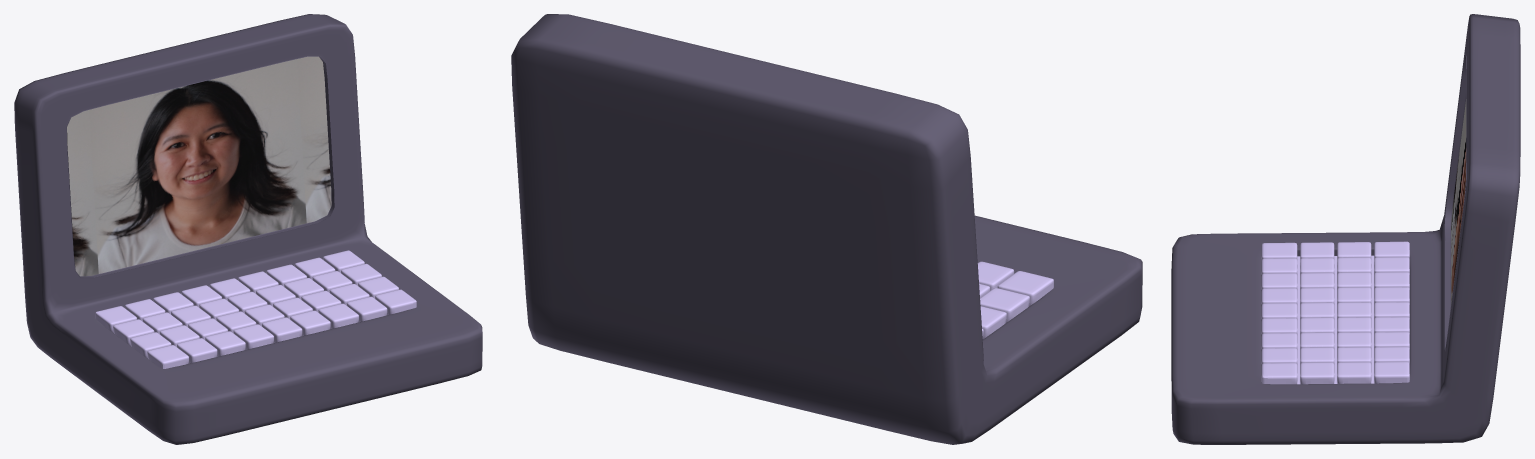
The model's file is laptop_5.glb.
The picture shows the model from 3 angles, left to right: view 1: azimuth 30°, elevation 25°; view 2: azimuth 150°, elevation 25°; view 3: azimuth 270°, elevation 25°; orthographic projection. The views are drawn at different scales.
Parts seen in each view (by area): view 1: laptop; view 2: laptop; view 3: laptop.
Part boxes in pixels (x1,y1,x2,y2): laptop: (14,14,482,444); laptop: (511,14,1142,444); laptop: (1171,14,1520,444).
Bounding box in the file's own units: 3.21 × 2.43 × 2.81.
Materials: 3 (1 with a texture image).
